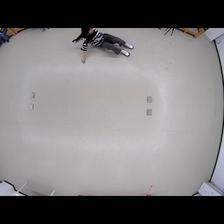fall: (70, 26, 134, 62)
